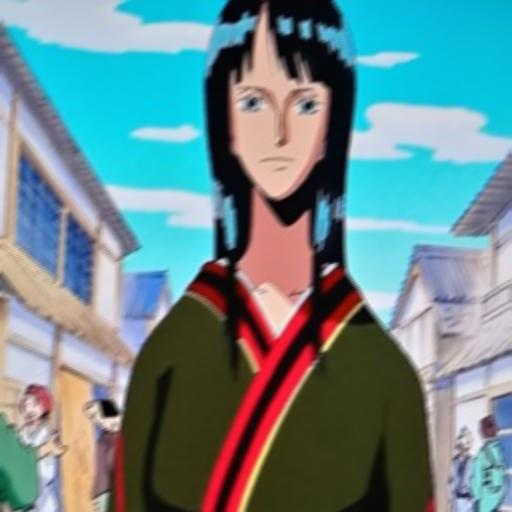NicoRobin: (200, 0, 360, 262)
